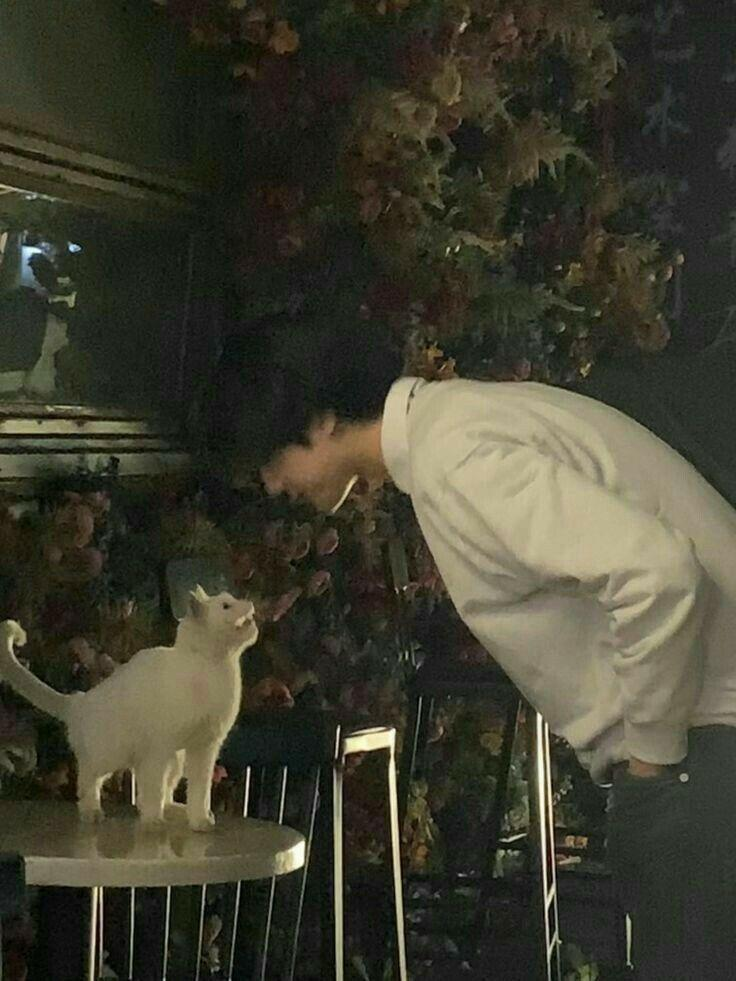kedo: (1, 580, 258, 831)
